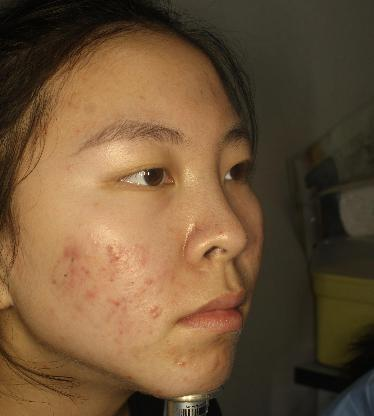Papules: (144, 303, 163, 322), (105, 241, 120, 257)
acne scar: (53, 260, 92, 296), (58, 239, 93, 263), (109, 293, 134, 312), (140, 274, 154, 291)
